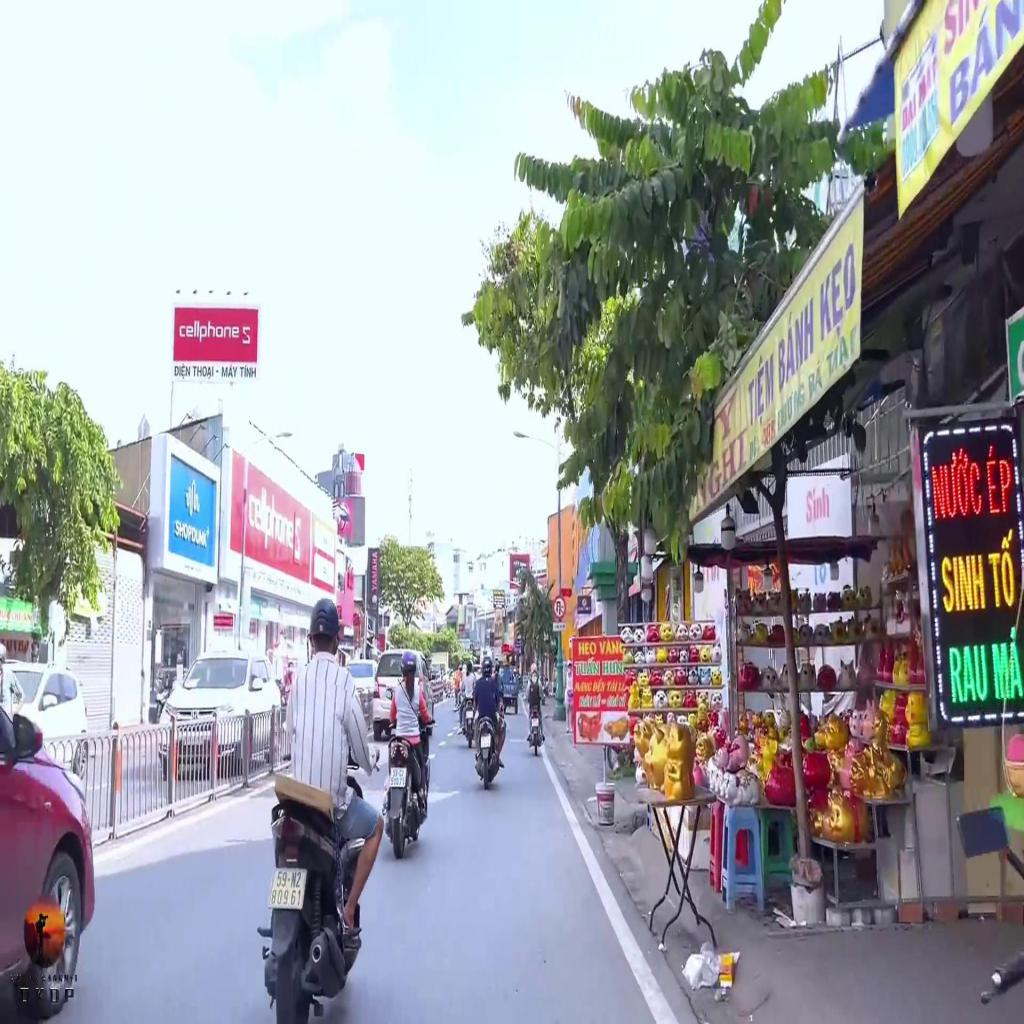cam_o_to_quay_dau_xe: (552, 593, 567, 622)
khac: (552, 622, 568, 632)
